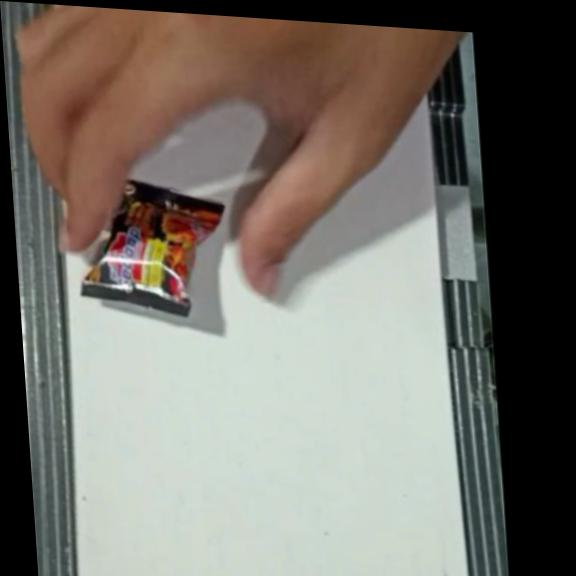Plastik: (72, 173, 233, 320)
